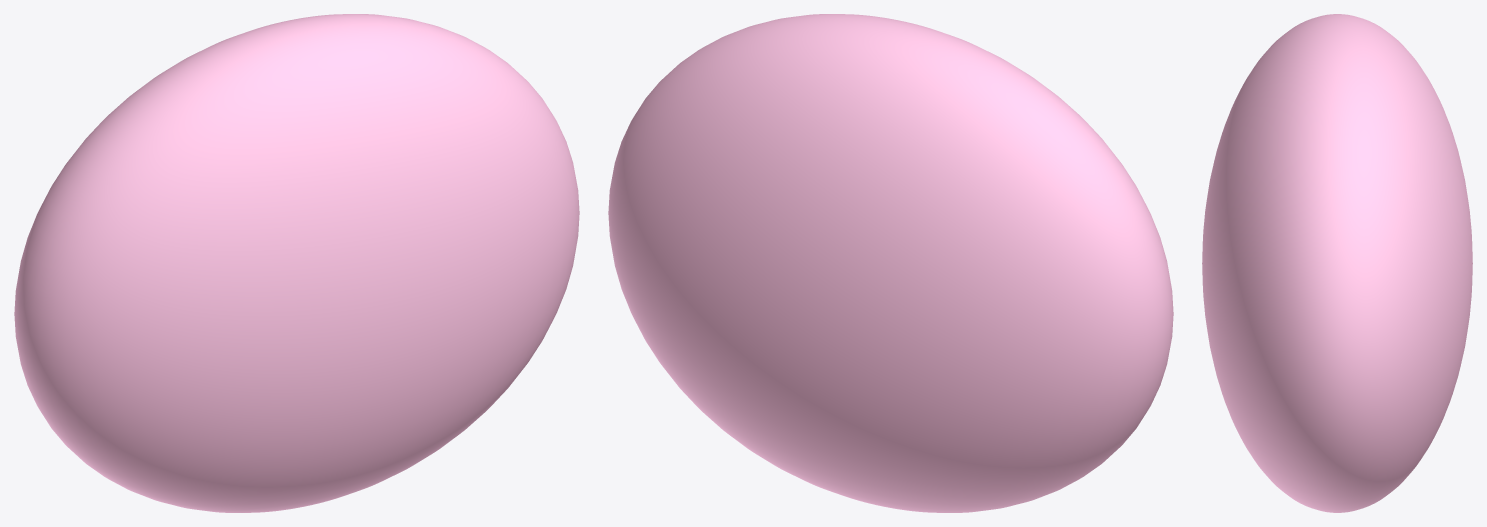
File: coral-boulder-01.glb
3 views of the same model, side by side, from view 1: azimuth 30°, elevation 25°; view 2: azimuth 150°, elevation 25°; view 3: azimuth 270°, elevation 25° (orthographic). The views are drawn at different scales.
Visible parts, largest first — view 1: coral_boulder_01_mass; view 2: coral_boulder_01_mass; view 3: coral_boulder_01_mass.
Part boxes in pixels (x1,y1,x2,y2): coral_boulder_01_mass: (14, 14, 579, 512); coral_boulder_01_mass: (608, 14, 1173, 512); coral_boulder_01_mass: (1202, 14, 1472, 512).
Bounding box in the file's own units: 2.24 × 1.84 × 1.04.
